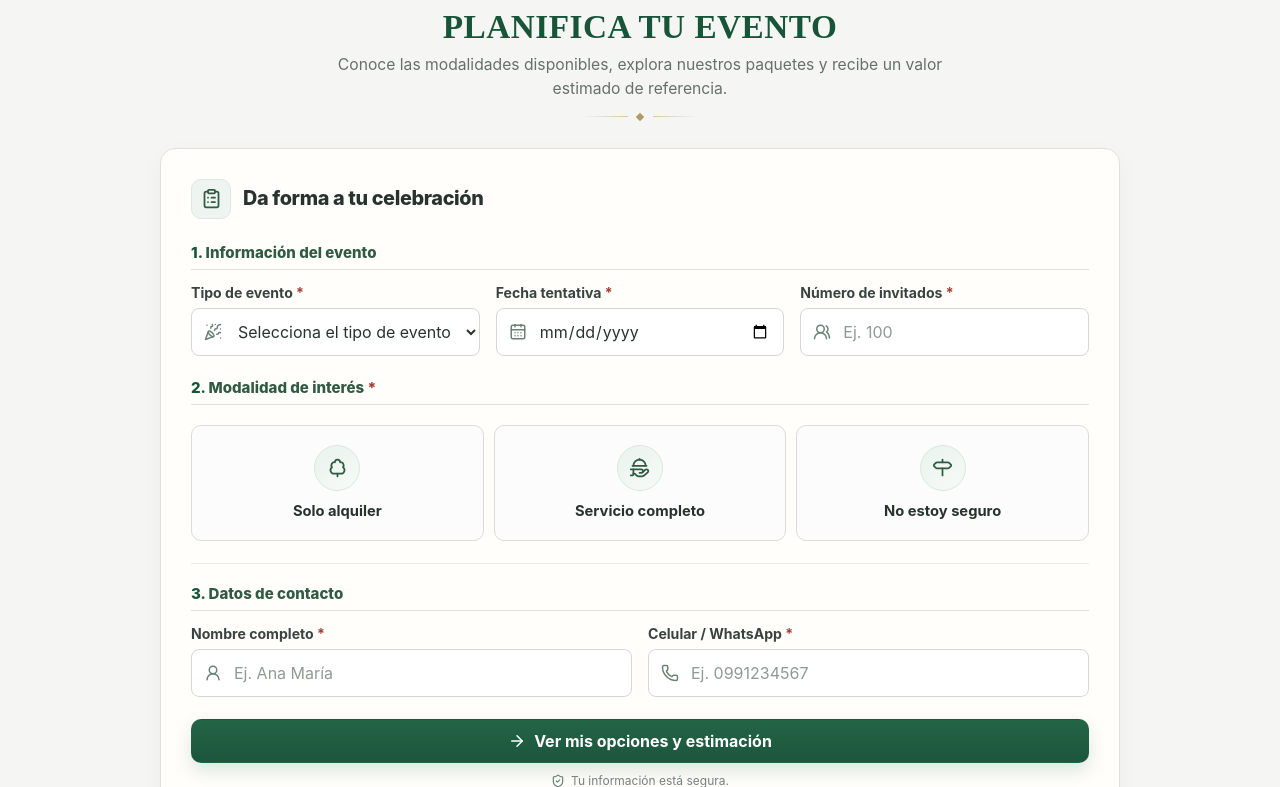
Scenario: PreCotizacionPage › muestra el error junto al campo y lo limpia al corregir el valor
Click the button "Ver mis opciones y estimación" at coordinates (640, 741), box [191, 719, 1089, 763]
(page scrolled)
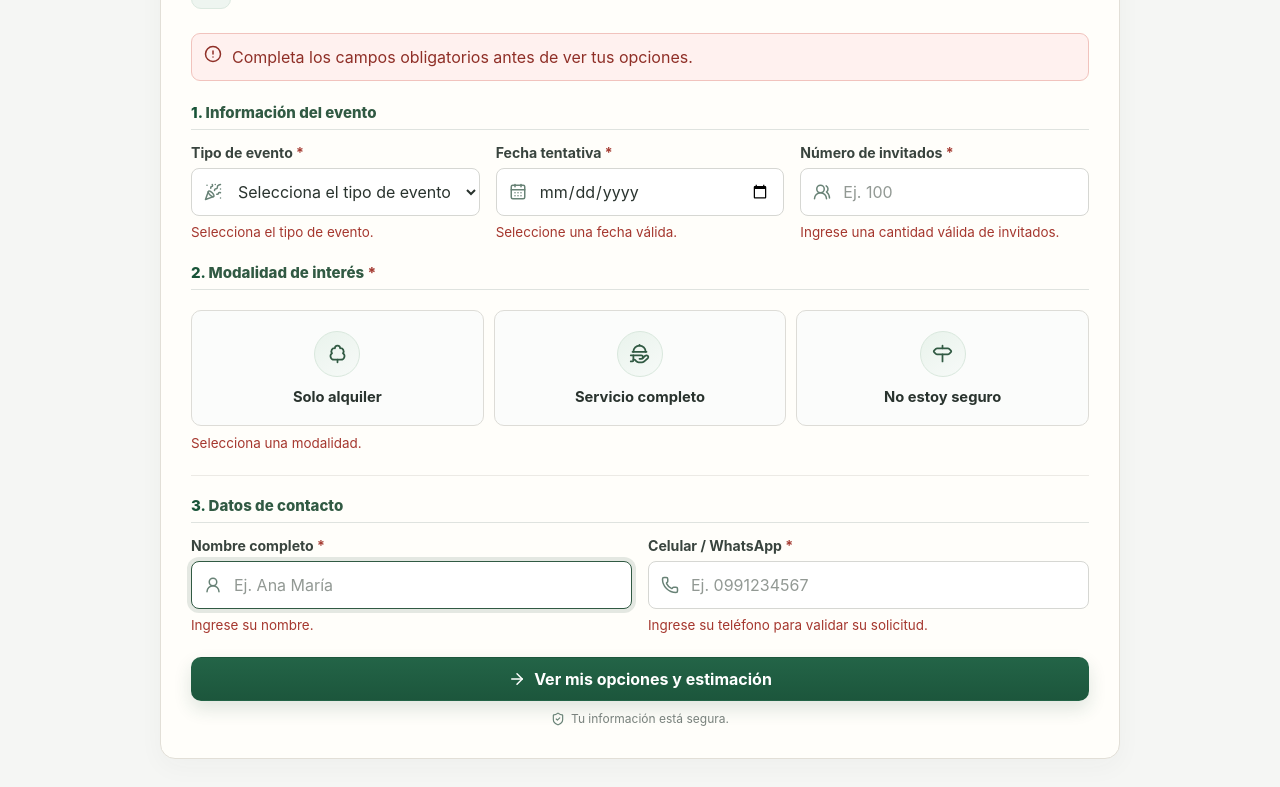
Result: the text "Ingrese su nombre." is shown at [191, 617, 314, 633]
Type "Ana María" into the field labelled "Nombre completo * Ingrese su nombre." at coordinates (412, 585), box [191, 561, 632, 609]
(page scrolled)
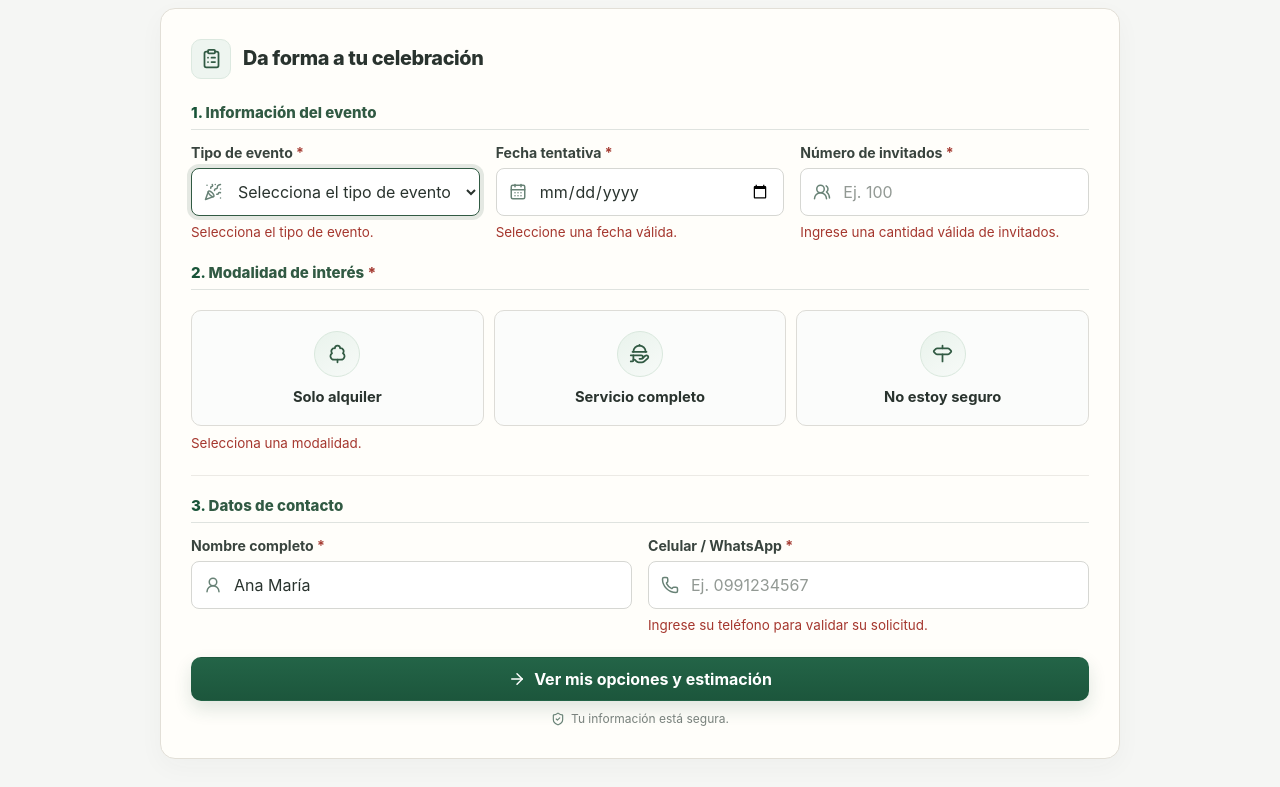
Result: the text "Ingrese su nombre." is gone
